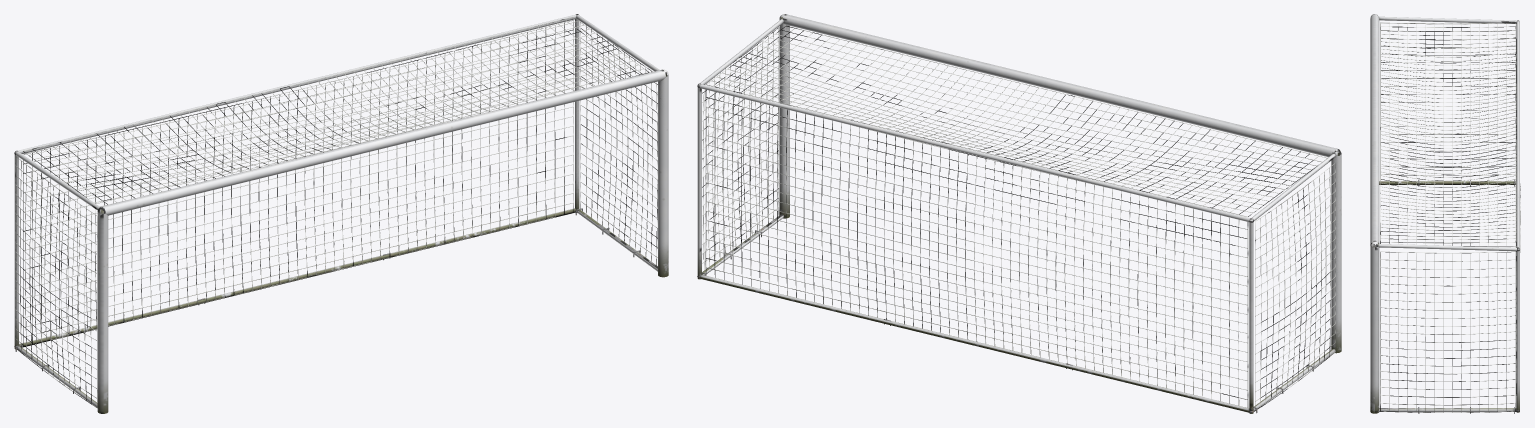
File: porteria.obj
3 renders of one model, left to right at view 1: azimuth 30°, elevation 25°; view 2: azimuth 150°, elevation 25°; view 3: azimuth 270°, elevation 25°, orthographic. The views are drawn at different scales.
Parts seen in each view (by area): view 1: red_fondo, red_techo, larguero, red_lateral_izq, red_lateral_der, barra_sup_fondo, barra_piso_fondo, poste_izquierdo, poste_derecho, poste_trasero_izq, poste_trasero_der; view 2: red_fondo, red_techo, larguero, red_lateral_izq, red_lateral_der, barra_sup_fondo, barra_piso_fondo, poste_izquierdo, poste_derecho, poste_trasero_izq, poste_trasero_der; view 3: red_techo, red_lateral_der, red_lateral_izq, larguero, poste_derecho, barra_sup_fondo, poste_trasero_der, barra_sup_der, barra_sup_izq, barra_piso_der, barra_piso_izq, red_fondo.
Part boxes in pixels (x1,y1,x2,y2): red_fondo: (23,20,573,346); red_techo: (23,17,649,206); larguero: (102,69,665,215); red_lateral_izq: (15,156,97,407); red_lateral_der: (580,22,657,265); barra_sup_fondo: (18,14,576,153); barra_piso_fondo: (19,208,576,347); poste_izquierdo: (97,212,108,413); poste_derecho: (658,75,668,277); poste_trasero_izq: (14,155,18,349); poste_trasero_der: (575,19,579,212); red_fondo: (705,90,1248,407); red_techo: (706,26,1326,216); larguero: (782,14,1336,156); red_lateral_izq: (1255,163,1335,410); red_lateral_der: (702,27,779,270); barra_sup_fondo: (699,84,1250,222); barra_piso_fondo: (699,275,1249,412); poste_izquierdo: (1331,154,1341,353); poste_derecho: (779,23,789,218); poste_trasero_izq: (1249,222,1253,413); poste_trasero_der: (697,87,701,279); red_techo: (1380,23,1515,246); red_lateral_der: (1380,251,1515,412); red_lateral_izq: (1380,22,1515,180); larguero: (1370,14,1379,244); poste_derecho: (1370,246,1379,413); barra_sup_fondo: (1516,21,1519,247); poste_trasero_der: (1516,251,1519,412); barra_sup_der: (1379,243,1516,251); barra_sup_izq: (1379,16,1516,23); barra_piso_der: (1379,408,1516,411); barra_piso_izq: (1379,181,1515,184); red_fondo: (1515,39,1520,395).
Size of the model in its own units: 7.49 by 2.57 by 2.04.
Materials: 2 (2 with a texture image).
